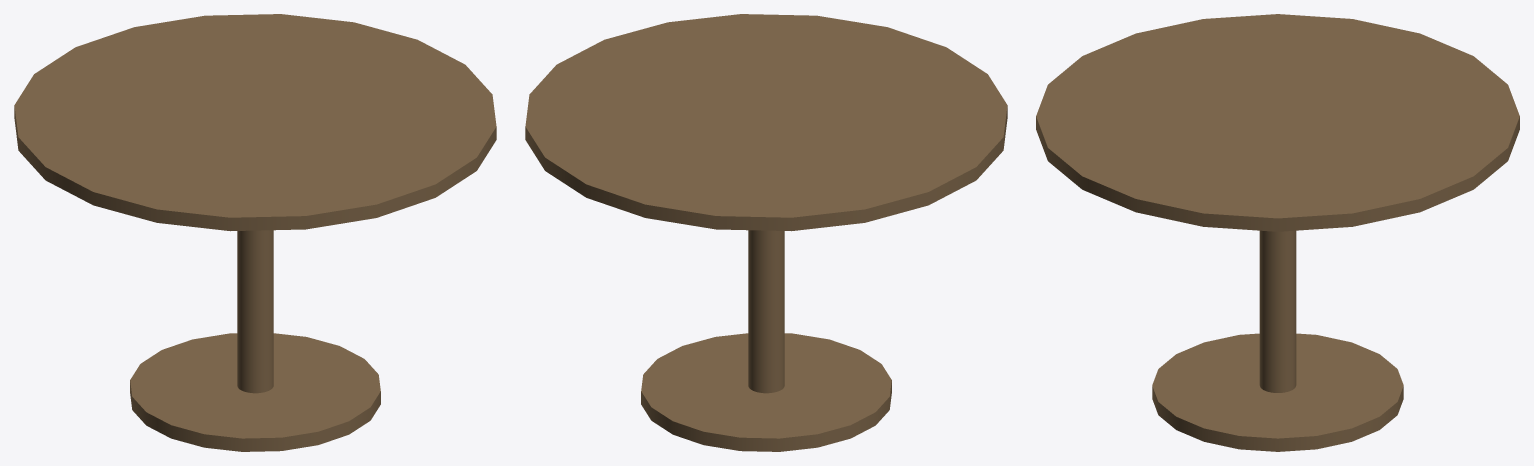
File: low_low_poly_table.glb
3 views of the same model, side by side, from view 1: azimuth 30°, elevation 25°; view 2: azimuth 150°, elevation 25°; view 3: azimuth 270°, elevation 25° (orthographic).
Parts seen in each view (by area): view 1: Table1; view 2: Table1; view 3: Table1.
Part boxes in pixels (<box>): Table1: <box>14,14,496,451</box>; Table1: <box>525,14,1007,451</box>; Table1: <box>1036,14,1519,451</box>.
Size of the model in its own units: 8.46 by 5.45 by 8.46.
